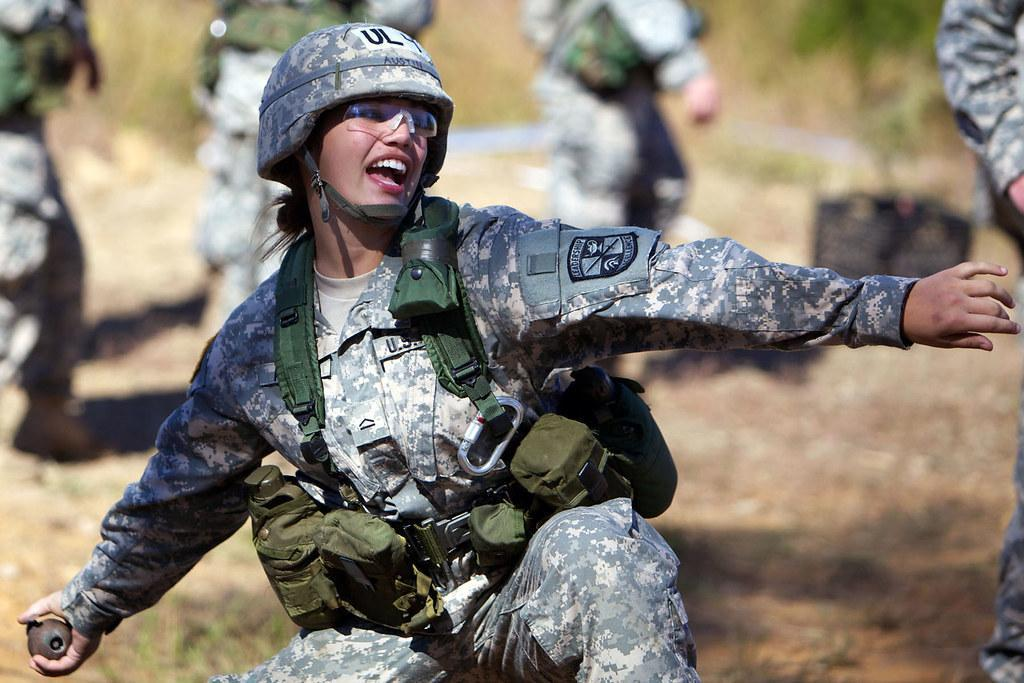Grenade: (25, 618, 71, 659)
